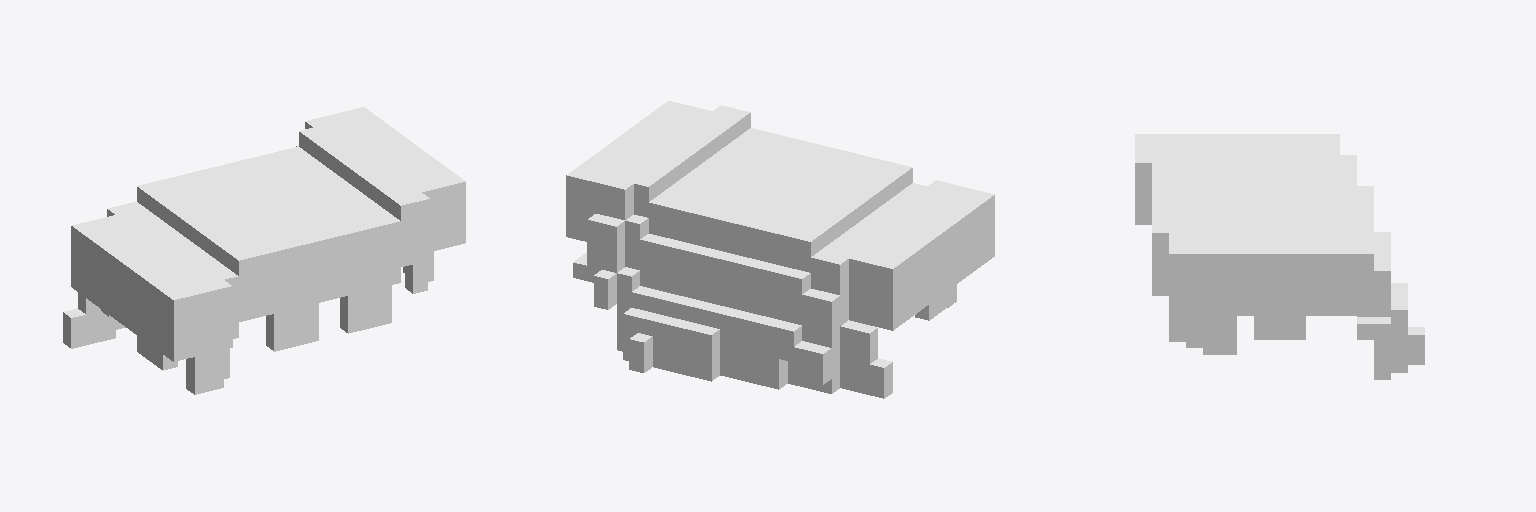
File: Mouth2.obj
3 views of the same model, side by side, from view 1: azimuth 30°, elevation 25°; view 2: azimuth 150°, elevation 25°; view 3: azimuth 270°, elevation 25° (orthographic).
Parts seen in each view (by area): view 1: object 1; view 2: object 1; view 3: object 1.
Part boxes in pixels (x1,y1,x2,y2): object 1: (63, 107, 465, 394); object 1: (566, 101, 994, 398); object 1: (1135, 134, 1424, 379).
Size of the model in its own units: 2.1 by 1 by 1.7.